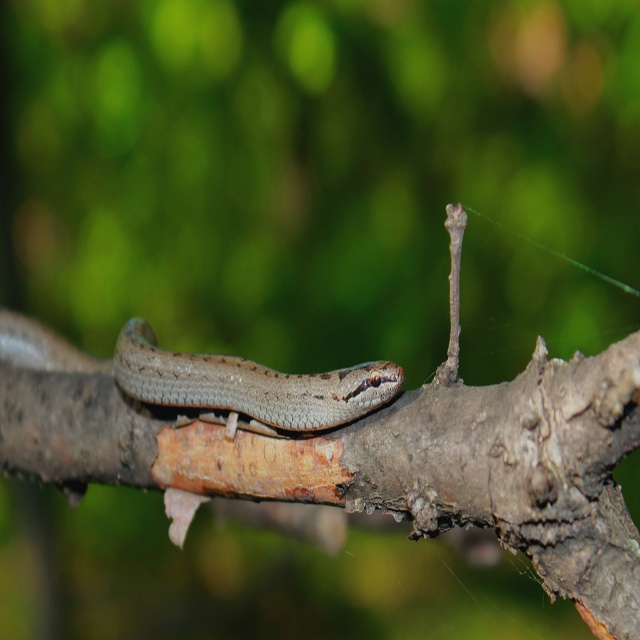Snake: (0, 318, 406, 437)
